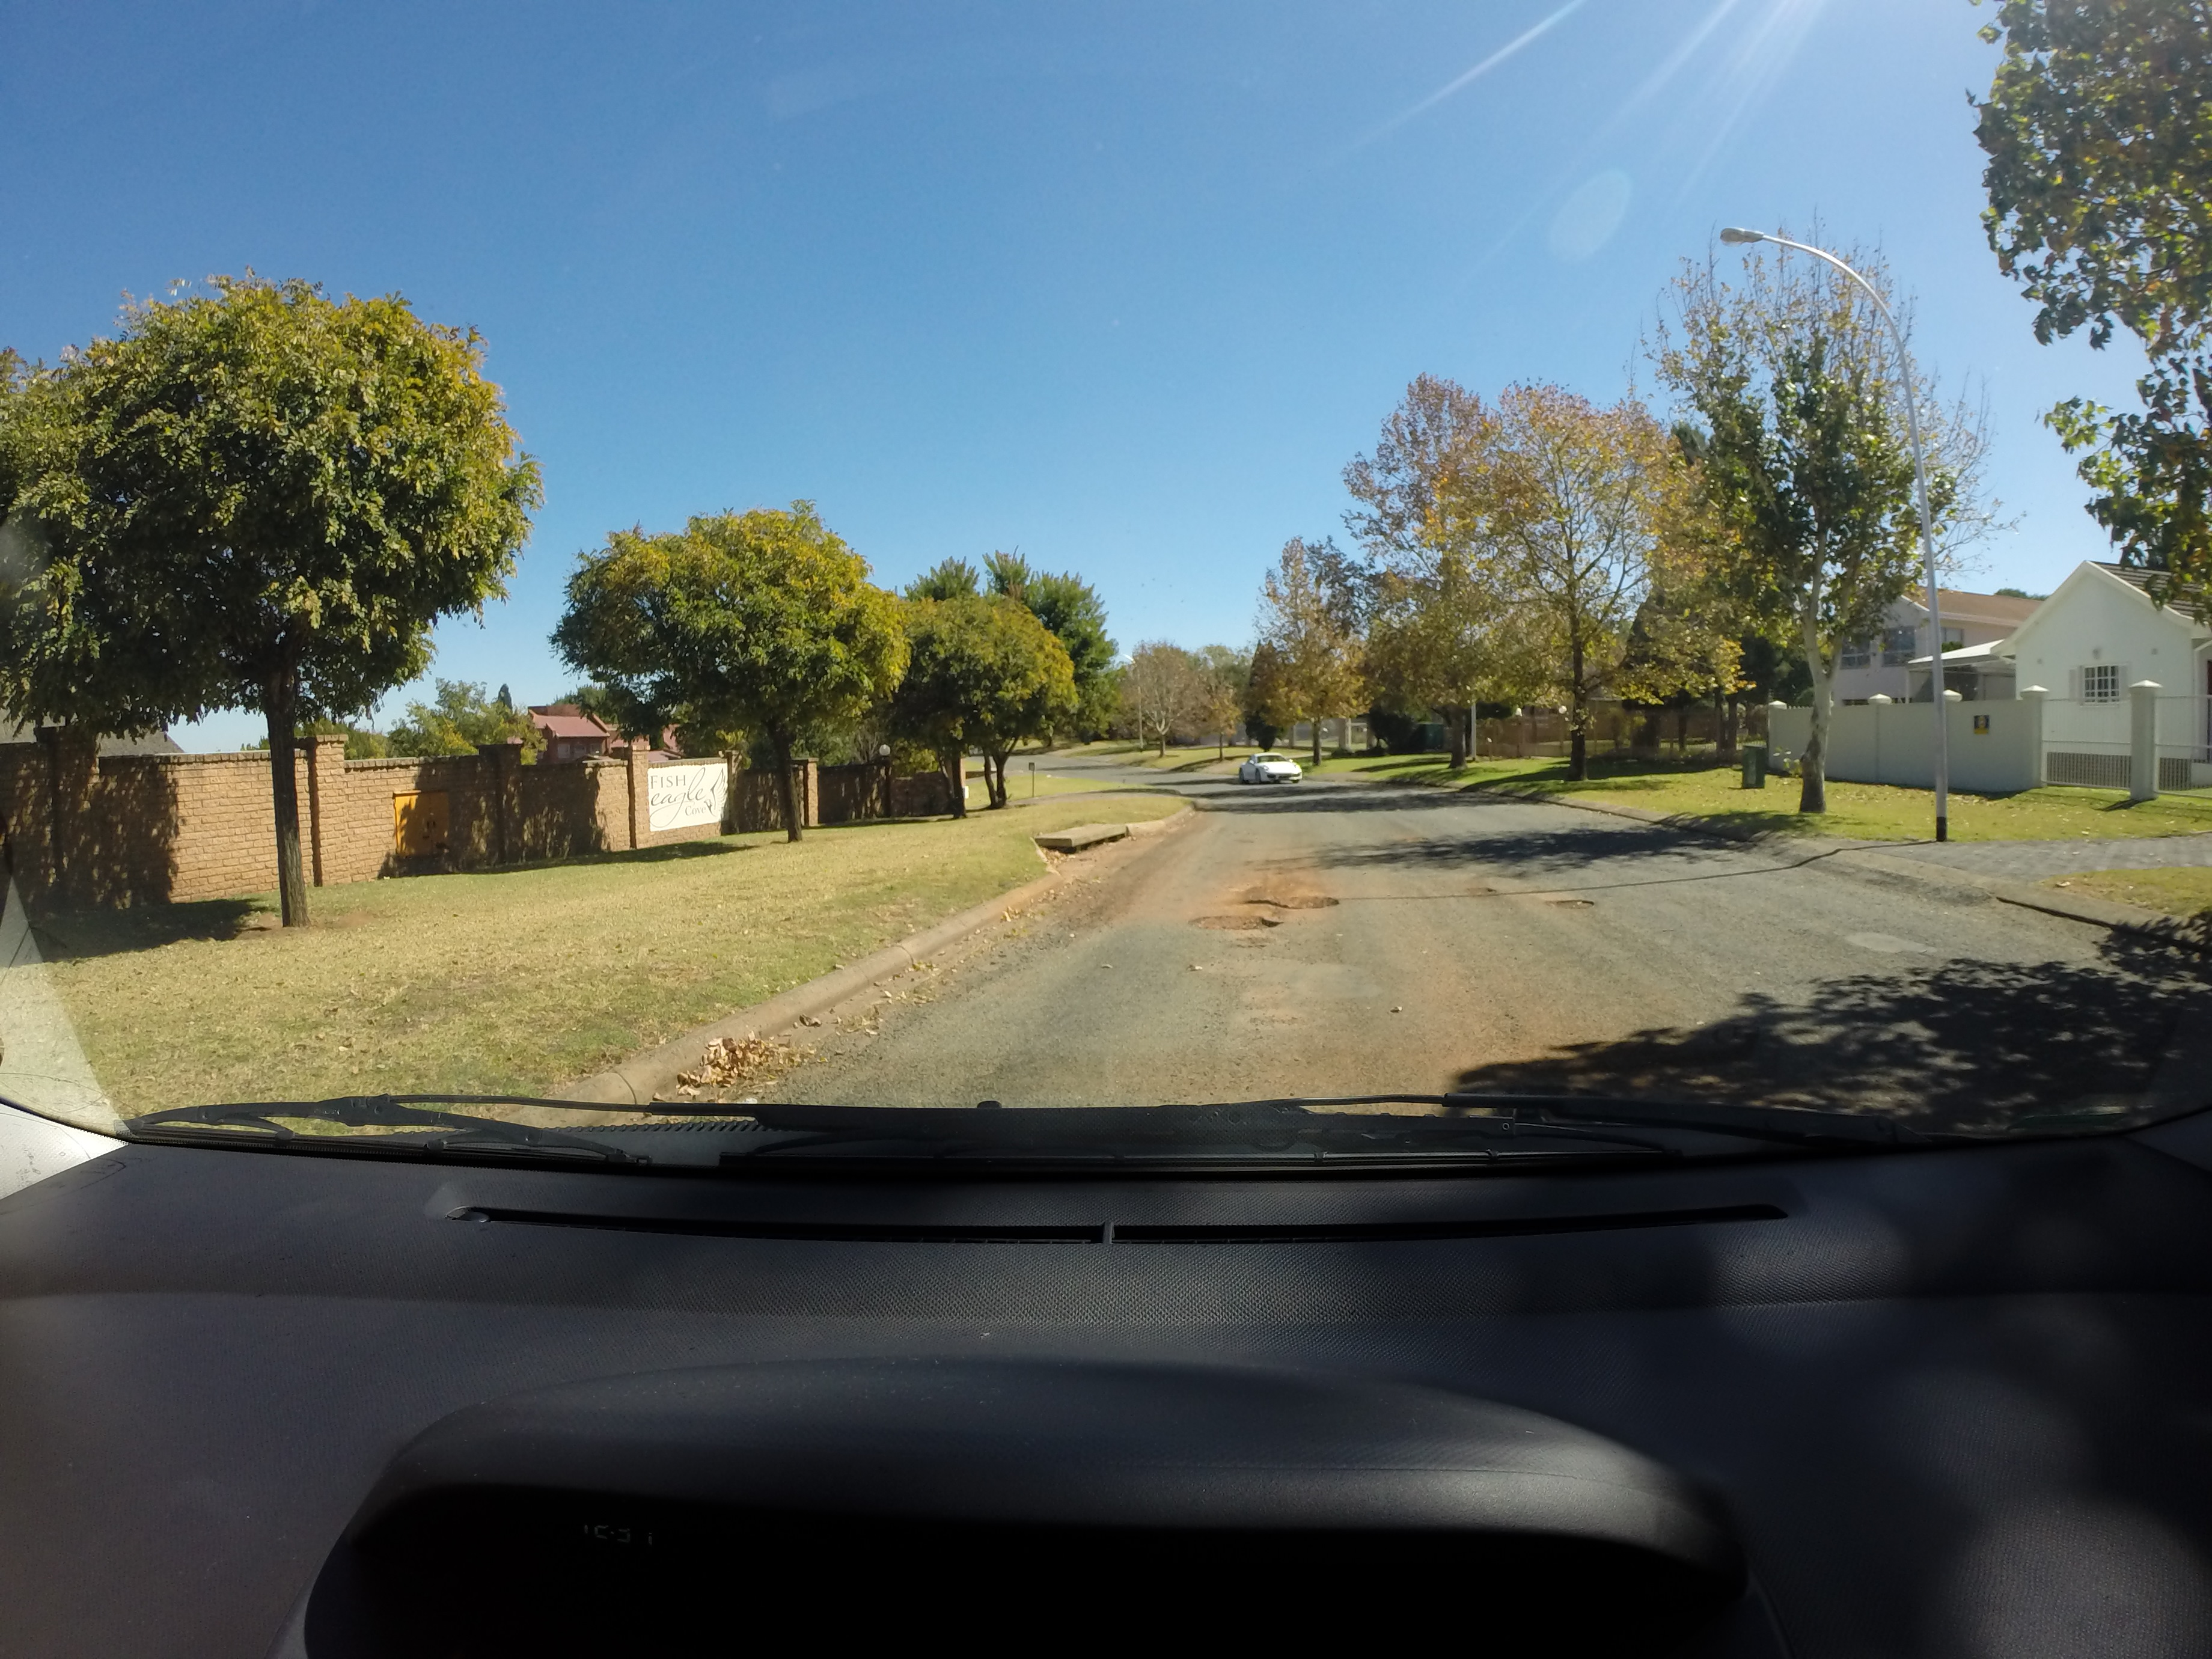pothole: (1197, 845, 1439, 1000)
